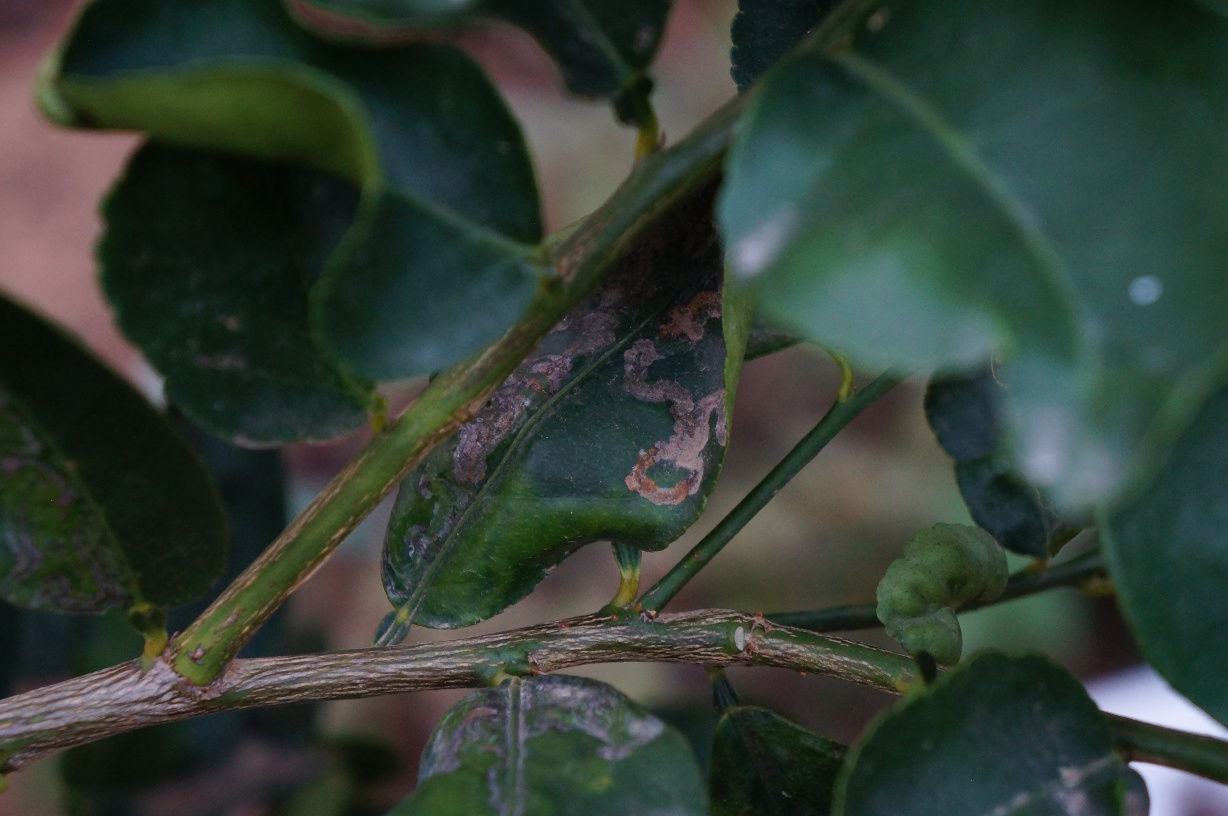damage: (440, 247, 632, 497), (610, 266, 742, 523), (375, 438, 483, 611)
